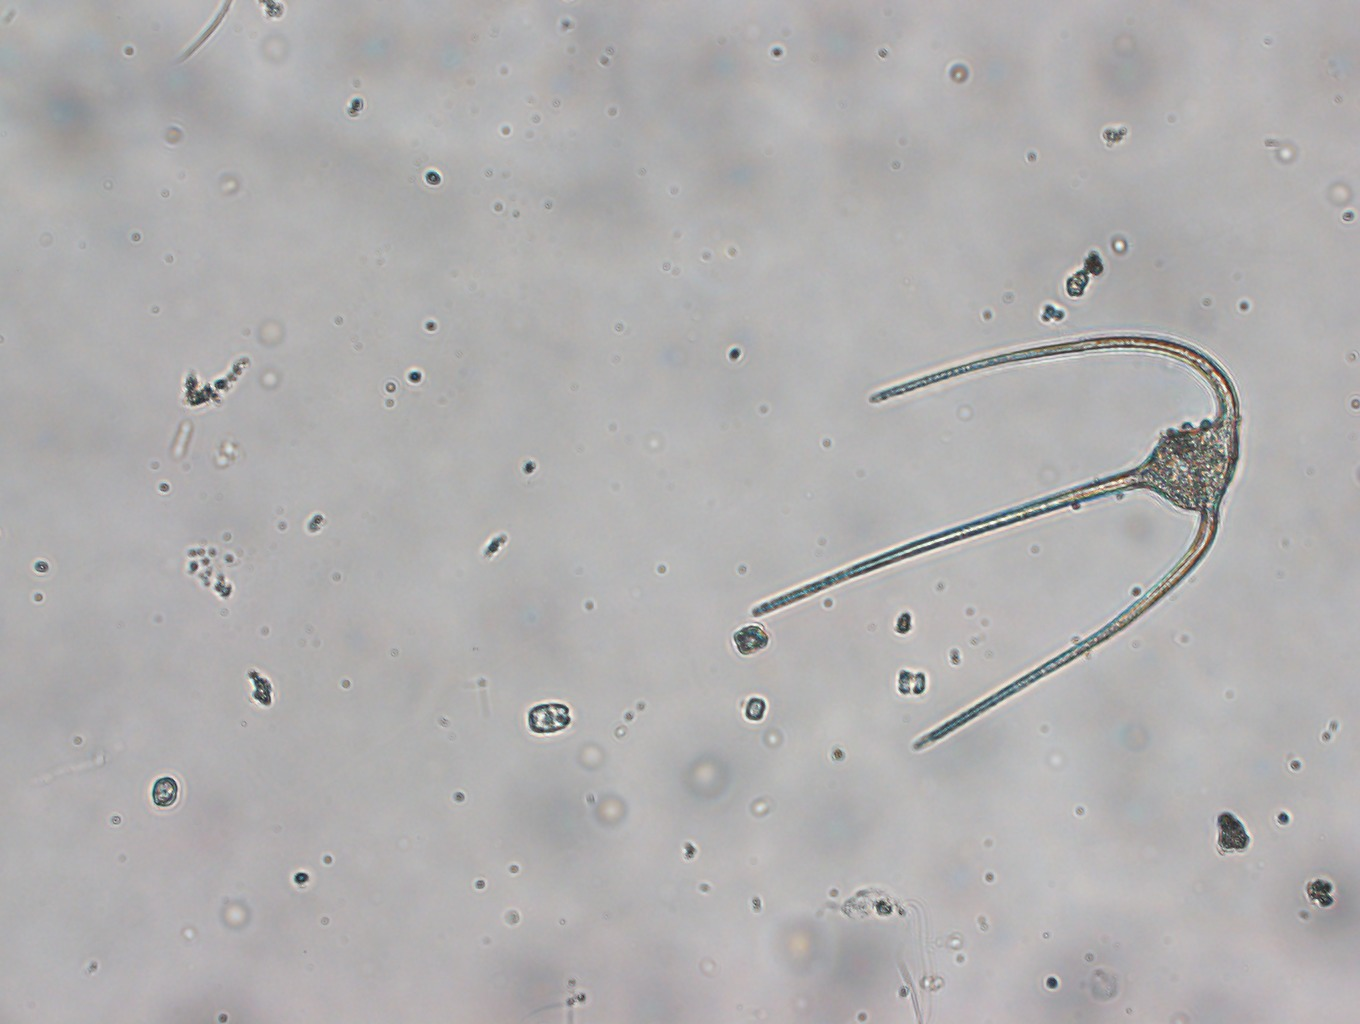ceratium trichoceros: (751, 333, 1242, 750)
